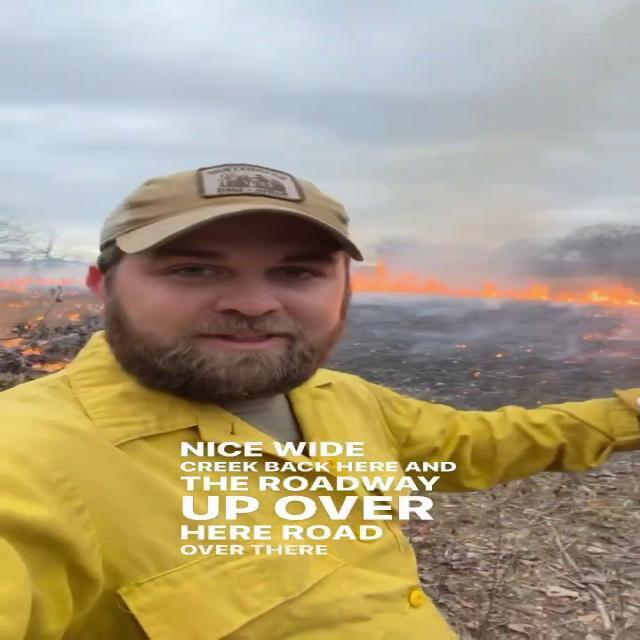Fire: (345, 262, 640, 312)
Smoke: (312, 2, 640, 245)
